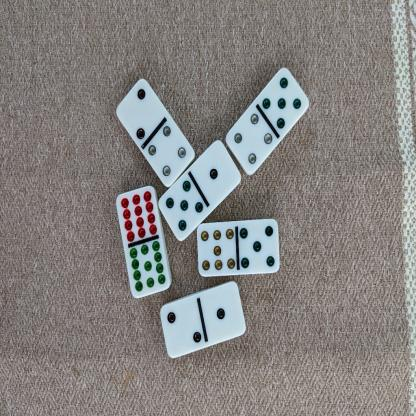pip-1: (191, 138, 241, 197), (201, 282, 245, 341)
pip-11: (130, 238, 170, 298)
pip-12: (115, 185, 157, 241)
pip-2: (116, 78, 161, 139), (159, 298, 202, 356)
pip-4: (226, 112, 272, 174), (148, 124, 194, 186)
pip-5: (262, 66, 309, 130), (158, 179, 202, 240), (237, 218, 280, 274)
pip-7: (196, 219, 237, 276)
